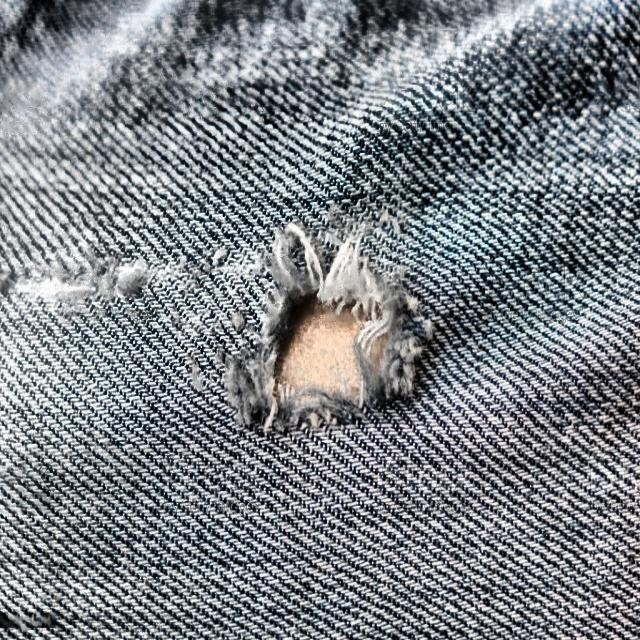Hole: (27, 144, 491, 507), (165, 176, 483, 494)
